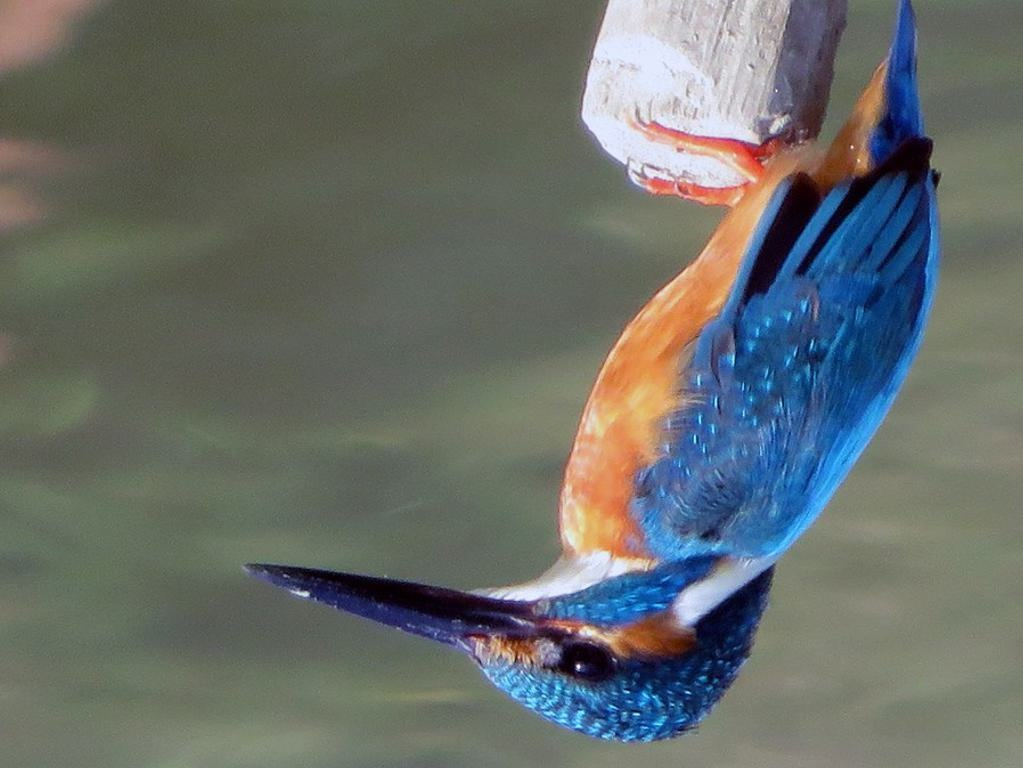kingfisher: (239, 9, 936, 744)
